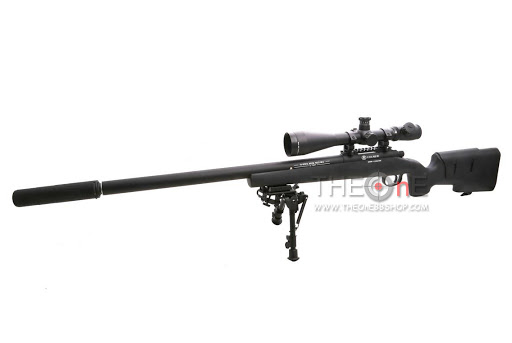gun: (7, 115, 512, 269)
